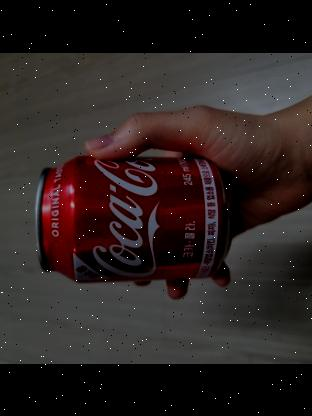Can: (36, 152, 228, 284)
